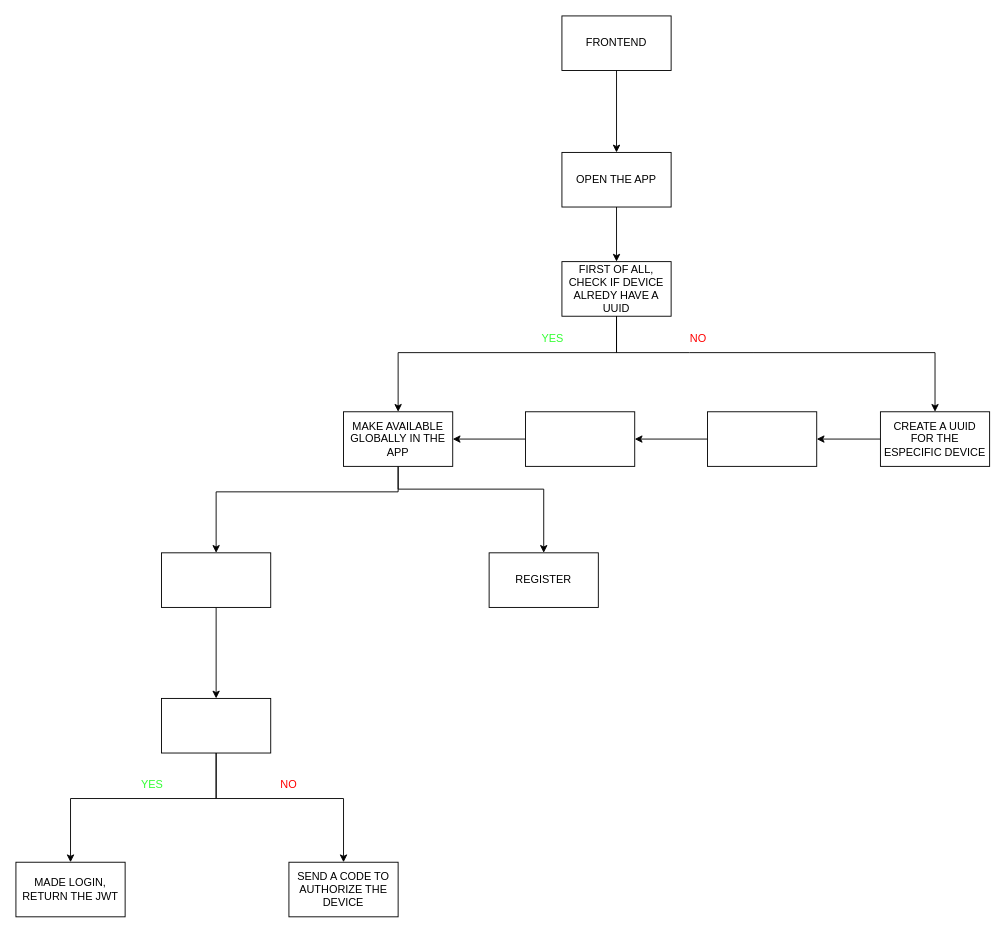
The diagram is 1006 pixels wide and 933 high, and some of its shapes have lost their labels. Here are the shapes that lost their labels. From the top down, the centre of each, then its label:
At [580,438]: "SAVE LOCALLY ON DEVICE".
At [762,438]: "GET DEVICE INFO: TYPE, NAME, MODEL.".
At [216,579]: "LOGIN".
At [216,725]: "VERIFY ON BACKEND IF THE DEVICE IS AUTHORIZED".
